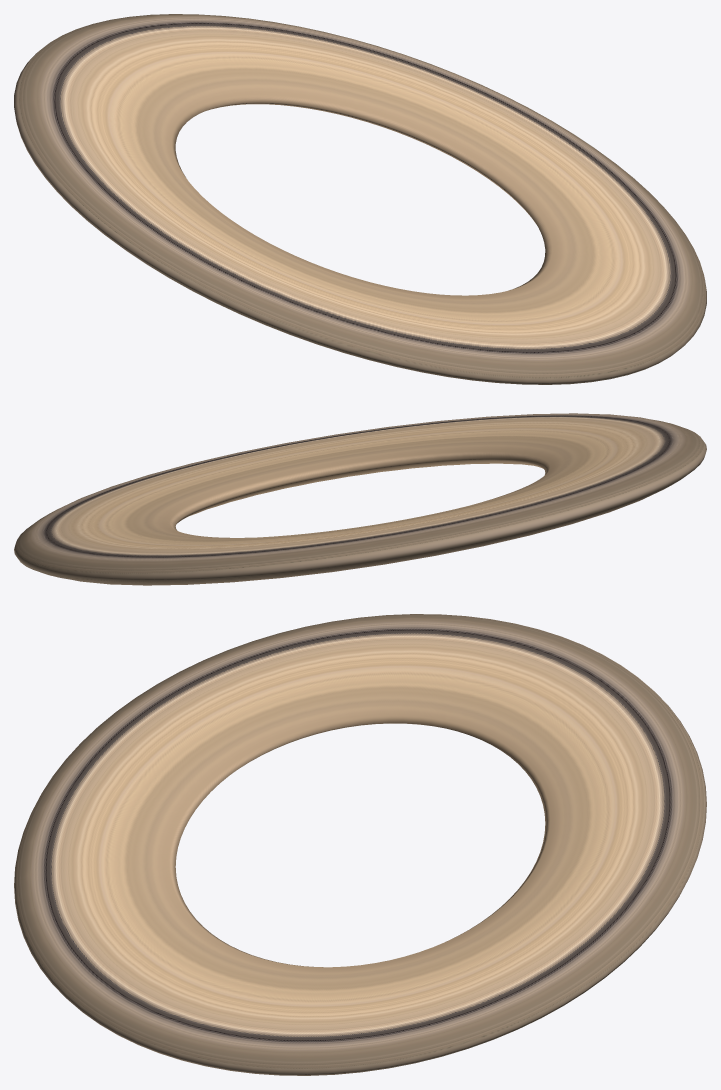
The model's file is planet_rings.fbx.
3 views of the same model, one above another, from view 1: azimuth 30°, elevation 25°; view 2: azimuth 150°, elevation 25°; view 3: azimuth 270°, elevation 25° (orthographic). The views are drawn at different scales.
Visible parts, largest first — view 1: pCylinder2; view 2: pCylinder2; view 3: pCylinder2.
Boxes of the visible parts, x1=… form: pCylinder2: x1=14, y1=14, x2=706, y2=384; pCylinder2: x1=14, y1=413, x2=706, y2=585; pCylinder2: x1=14, y1=614, x2=706, y2=1075.
Size of the model in its own units: 1.87 by 0.6093 by 1.91.
1 material, 1 textured.
